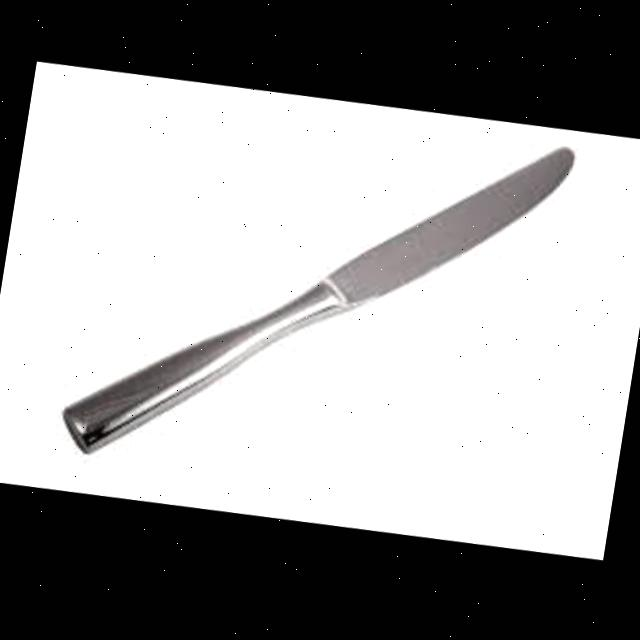Knife: (58, 75, 578, 523)
